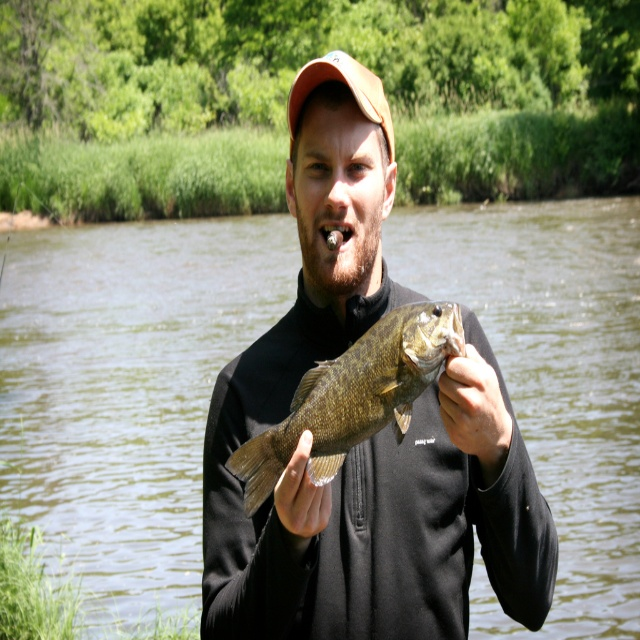Fish: (224, 299, 467, 520)
